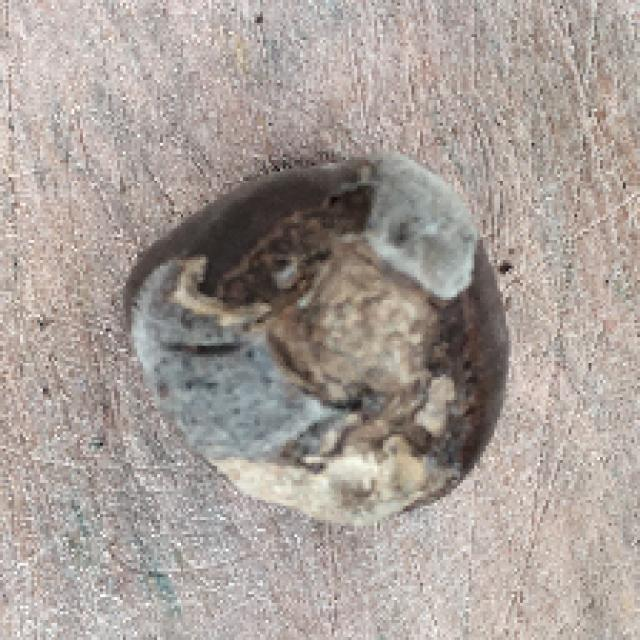damagedHazelnut: (113, 137, 518, 537)
